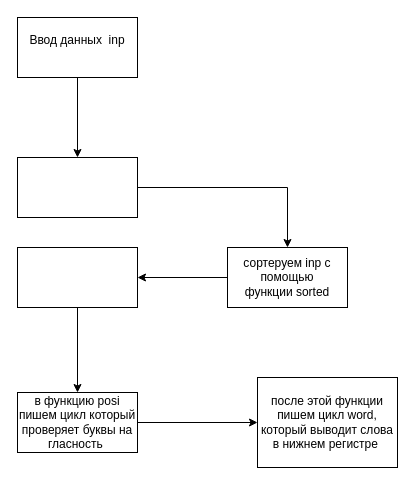
This 415x485 diagram has some shape labels left out. The box of each missing label's shape, as (x1, y1, x2, y2) in pixels:
в аргумент вводим функцию posi и делаем слова в нижним регистре: (16, 246, 138, 308)
разделяем inp с помощью inp = inp.split(): (16, 156, 138, 218)
